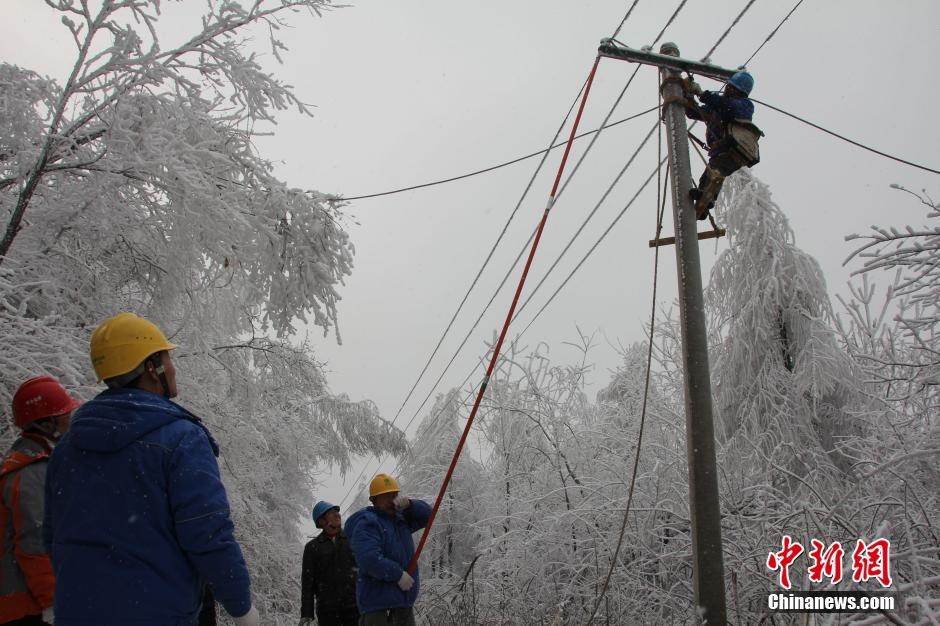blue: (308, 500, 345, 535), (721, 65, 756, 99)
red: (11, 376, 75, 439)
yellow: (88, 309, 185, 400), (367, 472, 404, 515)
